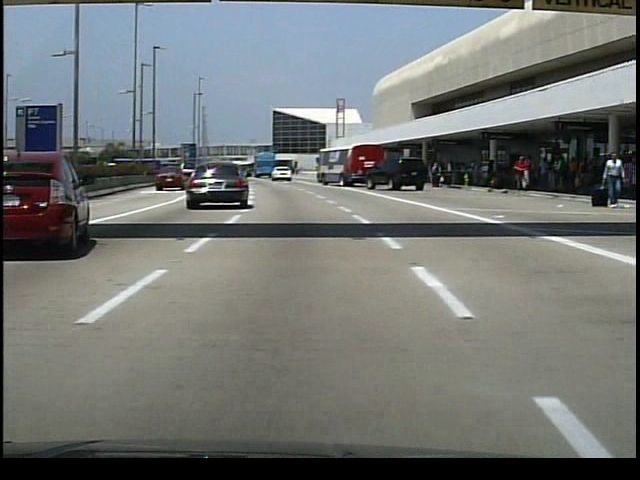person: (601, 152, 624, 209), (510, 153, 530, 192), (575, 157, 592, 194), (551, 152, 564, 190), (429, 160, 443, 189), (485, 158, 496, 187)
